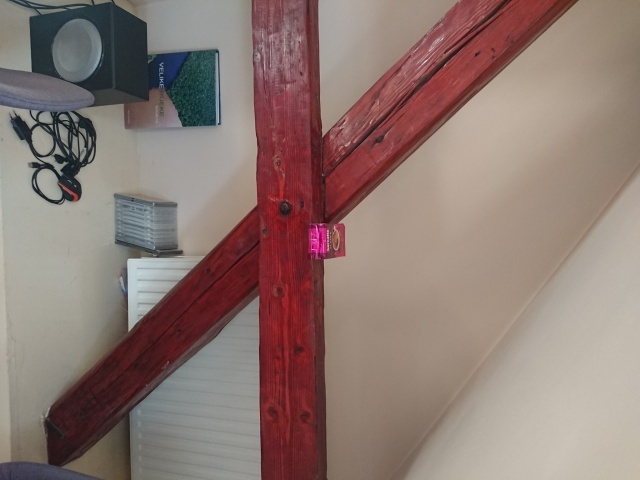Barcaffe Classic Original 225g: (307, 221, 347, 262)
